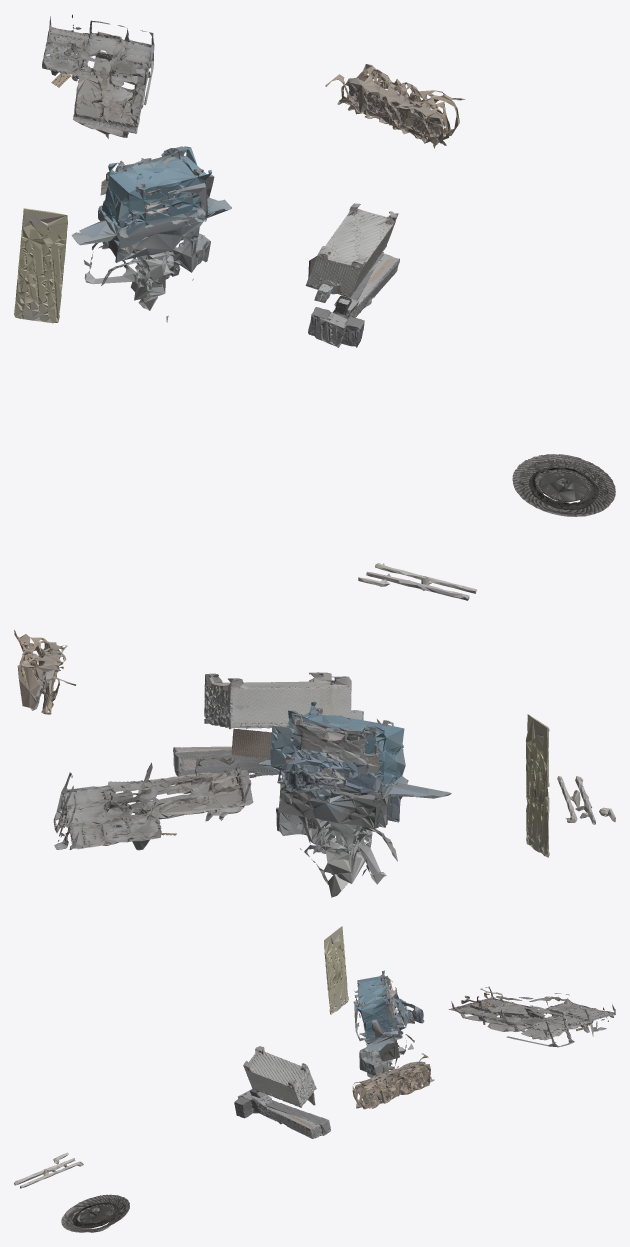
Rendered from models-0-0.glb.
3 renders of one model, top to bottom at view 1: azimuth 30°, elevation 25°; view 2: azimuth 150°, elevation 25°; view 3: azimuth 270°, elevation 25°, orthographic. The views are drawn at different scales.
Parts seen in each view (by area): view 1: obj-0-23, obj-0-26, obj-0-2, obj-0-27, obj-0-44, obj-0-65, obj-0-307, obj-0-42, obj-0-394, obj-0-362; view 2: obj-0-307, obj-0-26, obj-0-23, obj-0-65, obj-0-27, obj-0-2, obj-0-362, obj-0-314, obj-0-394; view 3: obj-0-26, obj-0-23, obj-0-65, obj-0-2, obj-0-44, obj-0-307, obj-0-27, obj-0-42, obj-0-362, obj-0-394.
Part boxes in pixels (x1=…): obj-0-23: x1=71, y1=146, x2=231, y2=322; obj-0-26: x1=42, y1=14, x2=154, y2=138; obj-0-2: x1=325, y1=64, x2=465, y2=148; obj-0-27: x1=14, y1=208, x2=67, y2=323; obj-0-44: x1=512, y1=454, x2=615, y2=516; obj-0-65: x1=305, y1=203, x2=398, y2=302; obj-0-307: x1=79, y1=146, x2=217, y2=310; obj-0-42: x1=313, y1=253, x2=399, y2=347; obj-0-394: x1=358, y1=563, x2=476, y2=600; obj-0-362: x1=308, y1=252, x2=383, y2=347; obj-0-307: x1=263, y1=707, x2=431, y2=897; obj-0-26: x1=53, y1=755, x2=253, y2=850; obj-0-23: x1=259, y1=701, x2=451, y2=884; obj-0-65: x1=204, y1=672, x2=363, y2=729; obj-0-27: x1=525, y1=714, x2=549, y2=857; obj-0-2: x1=14, y1=630, x2=76, y2=714; obj-0-362: x1=173, y1=749, x2=278, y2=777; obj-0-314: x1=231, y1=728, x2=271, y2=758; obj-0-394: x1=557, y1=776, x2=615, y2=824; obj-0-26: x1=448, y1=986, x2=615, y2=1047; obj-0-23: x1=353, y1=970, x2=414, y2=1077; obj-0-65: x1=243, y1=1046, x2=316, y2=1107; obj-0-2: x1=352, y1=1053, x2=434, y2=1109; obj-0-44: x1=61, y1=1194, x2=129, y2=1232; obj-0-307: x1=354, y1=974, x2=424, y2=1069; obj-0-27: x1=324, y1=926, x2=348, y2=1014; obj-0-42: x1=237, y1=1089, x2=322, y2=1138; obj-0-362: x1=234, y1=1089, x2=330, y2=1135; obj-0-394: x1=14, y1=1152, x2=83, y2=1188.
Bounding box in the file's own units: 8.41 × 4.75 × 13.63.
